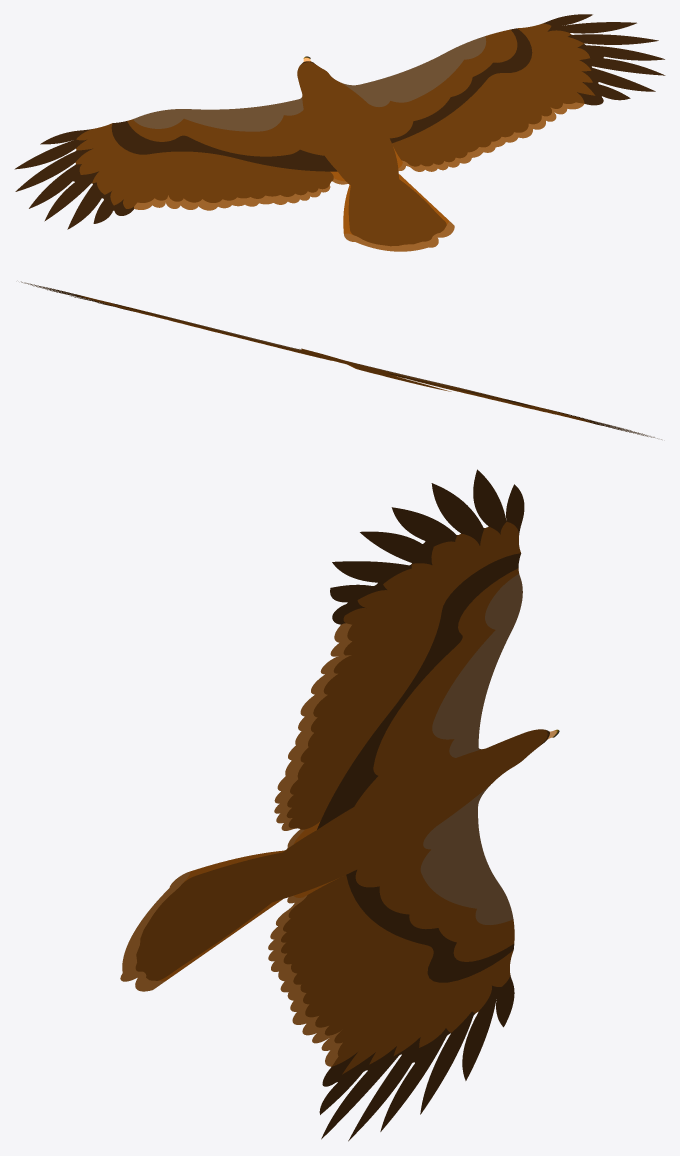
Rendered from eagle.dae.
3 views of the same model, one above another, from view 1: azimuth 30°, elevation 25°; view 2: azimuth 150°, elevation 25°; view 3: azimuth 270°, elevation 25° (orthographic). The views are drawn at different scales.
Parts seen in each view (by area): view 1: group_0 (×17); view 2: group_0 (×3); view 3: group_0 (×17).
Part boxes in pixels (bbox=[...]): group_0 (×17): bbox=[14, 14, 665, 251]; group_0 (×3): bbox=[76, 295, 593, 423]; group_0 (×17): bbox=[120, 469, 547, 1141].
Bounding box in the file's own units: 109 × 32.17 × 18.57.
